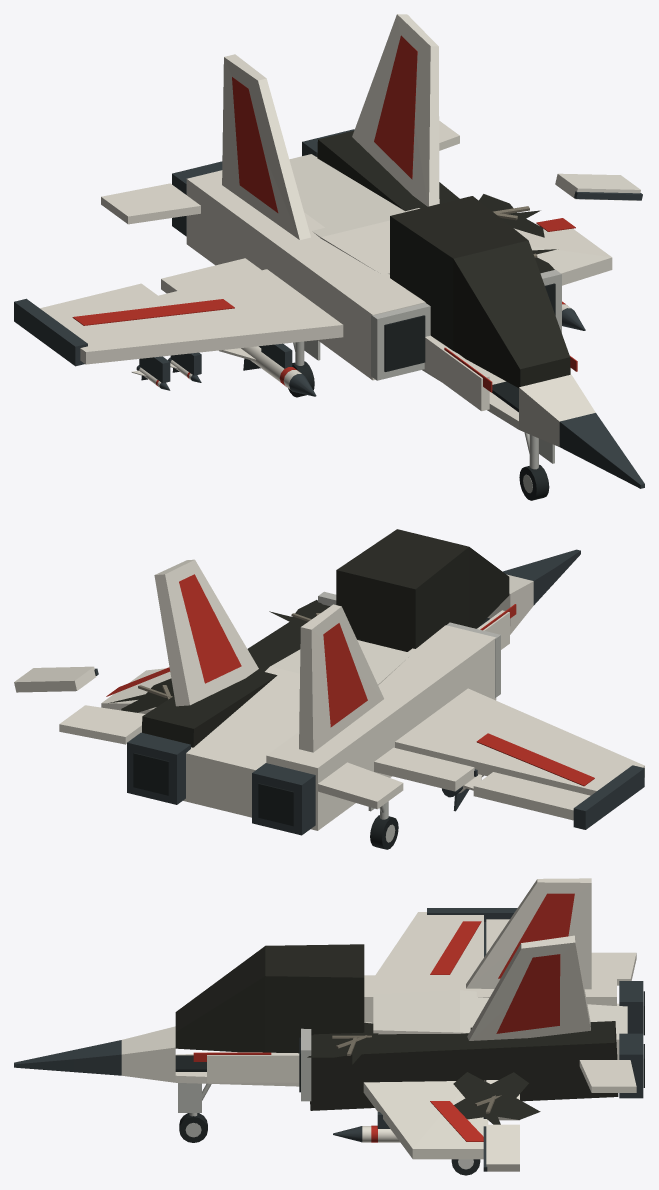
3 renders of one model, top to bottom at view 1: azimuth 30°, elevation 25°; view 2: azimuth 150°, elevation 25°; view 3: azimuth 270°, elevation 25°, orthographic. The views are drawn at different scales.
Parts seen in each view (by area): view 1: jet-a-damaged-fleet-armor, jet-a-damaged-fleet-damage-charred, jet-a-damaged-fleet-red, jet-a-damaged-fleet-machine, jet-a-damaged-fleet-rubber, elevator-left-fleet-armor, jet-a-damaged-fleet-edge, aileron-right-painted, aileron-left-painted, flap-left-painted, store-left-large-painted, gear-wheel-nose-0-0-painted; view 2: jet-a-damaged-fleet-armor, jet-a-damaged-fleet-damage-charred, jet-a-damaged-fleet-machine, jet-a-damaged-fleet-red, aileron-left-painted, flap-left-painted, jet-a-damaged-fleet-rubber, elevator-left-fleet-armor, elevator-right-fleet-armor, aileron-right-painted, jet-a-damaged-fleet-edge, gear-wheel-left-0-0-painted; view 3: jet-a-damaged-fleet-damage-charred, jet-a-damaged-fleet-armor, jet-a-damaged-fleet-red, jet-a-damaged-fleet-machine, aileron-right-painted, elevator-right-fleet-armor, elevator-left-fleet-armor, landing-gear-nose-fleet-edge, store-right-large-painted, jet-a-damaged-fleet-edge, jet-a-damaged-fleet-rubber, gear-wheel-nose-0-0-painted (+2 smaller).
Part boxes in pixels (left/top/right/bottom): jet-a-damaged-fleet-armor: left=56, top=14, right=612, bottom=446; jet-a-damaged-fleet-damage-charred: left=317, top=130, right=570, bottom=387; jet-a-damaged-fleet-red: left=72, top=35, right=577, bottom=392; jet-a-damaged-fleet-machine: left=14, top=129, right=644, bottom=488; jet-a-damaged-fleet-rubber: left=384, top=283, right=555, bottom=412; elevator-left-fleet-armor: left=101, top=183, right=200, bottom=224; jet-a-damaged-fleet-edge: left=371, top=269, right=561, bottom=380; aileron-right-painted: left=555, top=173, right=642, bottom=200; aileron-left-painted: left=40, top=283, right=157, bottom=320; flap-left-painted: left=161, top=258, right=261, bottom=293; store-left-large-painted: left=219, top=346, right=316, bottom=396; gear-wheel-nose-0-0-painted: left=519, top=464, right=549, bottom=500; jet-a-damaged-fleet-armor: left=101, top=559, right=644, bottom=830; jet-a-damaged-fleet-damage-charred: left=108, top=529, right=509, bottom=747; jet-a-damaged-fleet-machine: left=127, top=549, right=644, bottom=835; jet-a-damaged-fleet-red: left=106, top=574, right=594, bottom=786; aileron-left-painted: left=473, top=772, right=590, bottom=820; flap-left-painted: left=374, top=747, right=477, bottom=791; jet-a-damaged-fleet-rubber: left=133, top=618, right=489, bottom=826; elevator-left-fleet-armor: left=318, top=762, right=403, bottom=809; elevator-right-fleet-armor: left=59, top=705, right=145, bottom=744; aileron-right-painted: left=14, top=666, right=98, bottom=692; jet-a-damaged-fleet-edge: left=318, top=591, right=500, bottom=697; gear-wheel-left-0-0-painted: left=370, top=815, right=398, bottom=849; jet-a-damaged-fleet-damage-charred: left=175, top=944, right=618, bottom=1124; jet-a-damaged-fleet-armor: left=121, top=878, right=627, bottom=1159; jet-a-damaged-fleet-red: left=193, top=893, right=574, bottom=1141; jet-a-damaged-fleet-machine: left=14, top=908, right=643, bottom=1128; aileron-right-painted: left=483, top=1124, right=519, bottom=1171; elevator-right-fleet-armor: left=579, top=1060, right=636, bottom=1092; elevator-left-fleet-armor: left=591, top=952, right=636, bottom=985; landing-gear-nose-fleet-edge: left=178, top=1083, right=211, bottom=1116; store-right-large-painted: left=333, top=1125, right=400, bottom=1142; jet-a-damaged-fleet-edge: left=301, top=1028, right=311, bottom=1101; jet-a-damaged-fleet-rubber: left=175, top=991, right=644, bottom=1092; gear-wheel-nose-0-0-painted: left=179, top=1113, right=207, bottom=1142.
Size of the model in its own units: 56.65 by 26.34 by 62.11.
